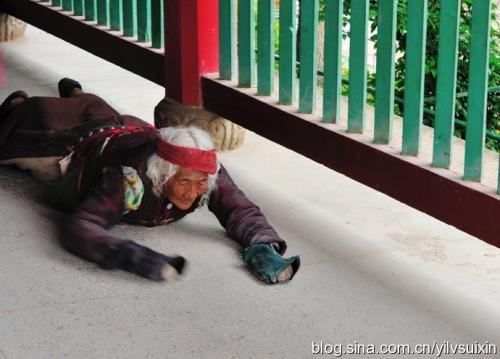falling: (0, 72, 300, 288)
